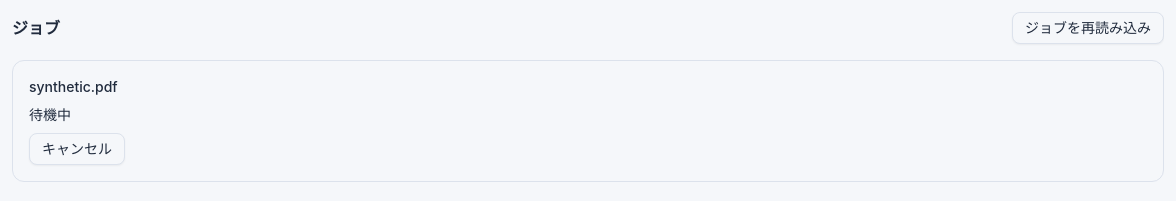
it: TEST-CJU-002 waits for acknowledged cancellation and prevents duplicate writes
The width and height of the screenshot is (1176, 201).
Later steps or results of the test are not shown.
Click the button "キャンセル": point(77, 149) x1=29 y1=133 x2=125 y2=165
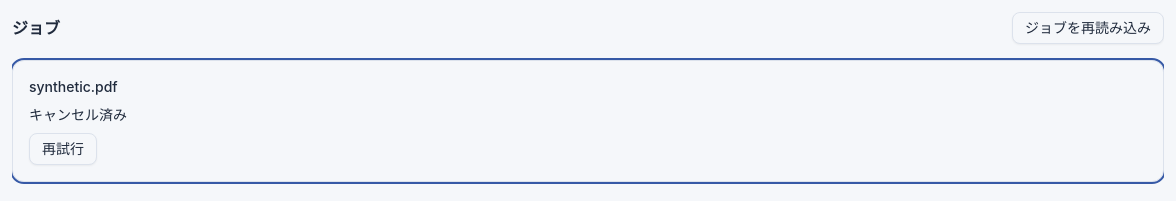
expect the text "キャンセル済み" is shown: met, box x1=29 y1=106 x2=127 y2=123
